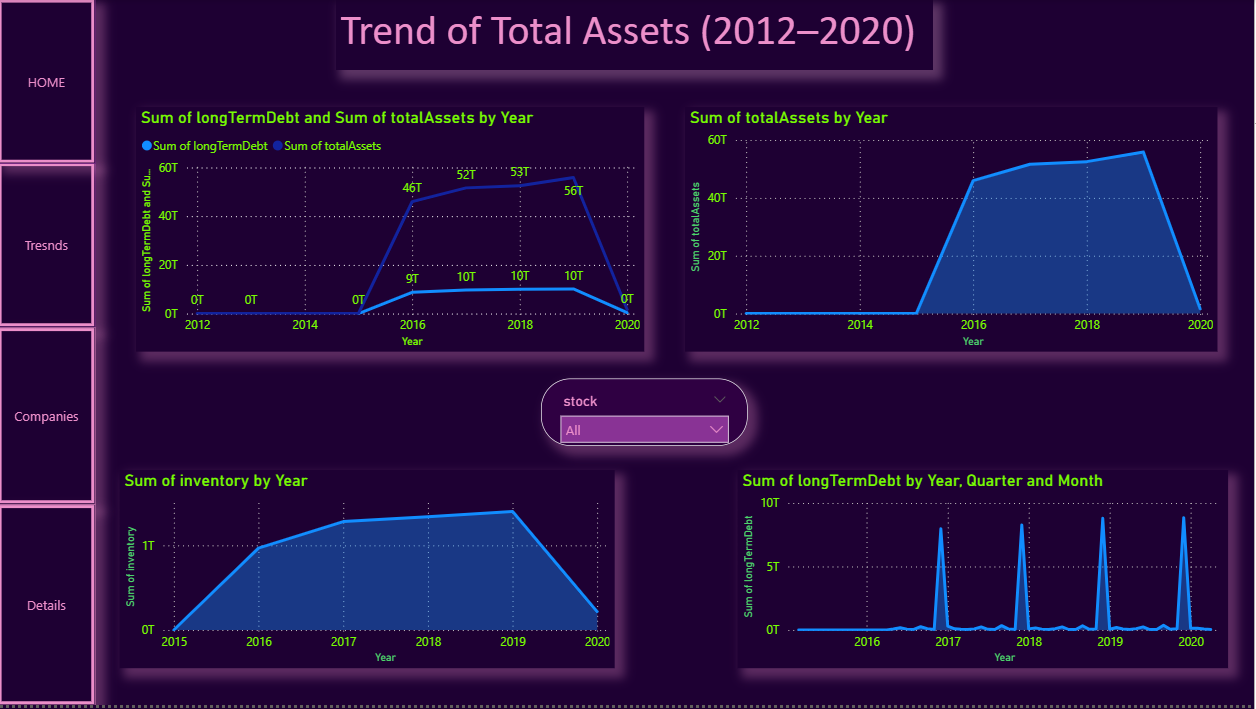

What the dashboard file says about the page in this screenshot:
{"tool":"powerbi","page":{"name":"Trends","canvas":[1280,720],"ordinal":1},"visuals":[{"type":"lineChart","fields":{"Category":["4400.endDate.Variation.Date Hierarchy.Year","4400.endDate.Variation.Date Hierarchy.Quarter","4400.endDate.Variation.Date Hierarchy.Month","4400.endDate.Variation.Date Hierarchy.Day"],"Y":["Sum(4400.longTermDebt)","Sum(4400.totalAssets)"]},"box":[140.6,110.1,518.2,249.2],"z":0},{"type":"slicer","fields":{"Values":["4400.stock"]},"box":[553.4,386.8,211,68.8],"z":1000},{"type":"areaChart","fields":{"Category":["4400.endDate.Variation.Date Hierarchy.Year"],"Y":["Sum(4400.totalAssets)"]},"box":[700.1,110.1,542.7,249.2],"z":2000},{"type":"areaChart","fields":{"Y":["Sum(4400.longTermDebt)"],"Category":["4400.endDate.Variation.Date Hierarchy.Year","4400.endDate.Variation.Date Hierarchy.Quarter","4400.endDate.Variation.Date Hierarchy.Month"]},"box":[753.3,480,500,201.7],"z":3000},{"type":"areaChart","fields":{"Category":["4400.endDate.Variation.Date Hierarchy.Year","4400.endDate.Variation.Date Hierarchy.Quarter","4400.endDate.Variation.Date Hierarchy.Month","4400.endDate.Variation.Date Hierarchy.Day"],"Y":["Sum(4400.inventory)"]},"box":[123.8,480,504.5,201.8],"z":4000},{"type":"textbox","box":[344,0,608.4,71.8],"z":5000},{"type":"actionButton","box":[0,166.6,99.4,168.2],"z":6000},{"type":"actionButton","box":[0,334.8,99.4,180.4],"z":7000},{"type":"actionButton","box":[0,515.2,99.4,204.8],"z":8000},{"type":"actionButton","box":[0,0,99.4,168.2],"z":9000}]}

Visuals, with their boxes on the page's 1280x720 design canvas (x1, y1, x2, y2). These are canvas units, not pixel positions in the 1256x709 screenshot, which may show the page scaled, cropped or inside an application window:
lineChart - 4400.endDate.Variation.Date Hierarchy.Year x 4400.endDate.Variation.Date Hierarchy.Quarter: 141,110,659,359
slicer - 4400.stock: 553,387,764,456
areaChart - 4400.endDate.Variation.Date Hierarchy.Year x Sum(4400.totalAssets): 700,110,1243,359
areaChart - Sum(4400.longTermDebt) x 4400.endDate.Variation.Date Hierarchy.Year: 753,480,1253,682
areaChart - 4400.endDate.Variation.Date Hierarchy.Year x 4400.endDate.Variation.Date Hierarchy.Quarter: 124,480,628,682
textbox: 344,0,952,72
actionButton: 0,167,99,335
actionButton: 0,335,99,515
actionButton: 0,515,99,720
actionButton: 0,0,99,168
